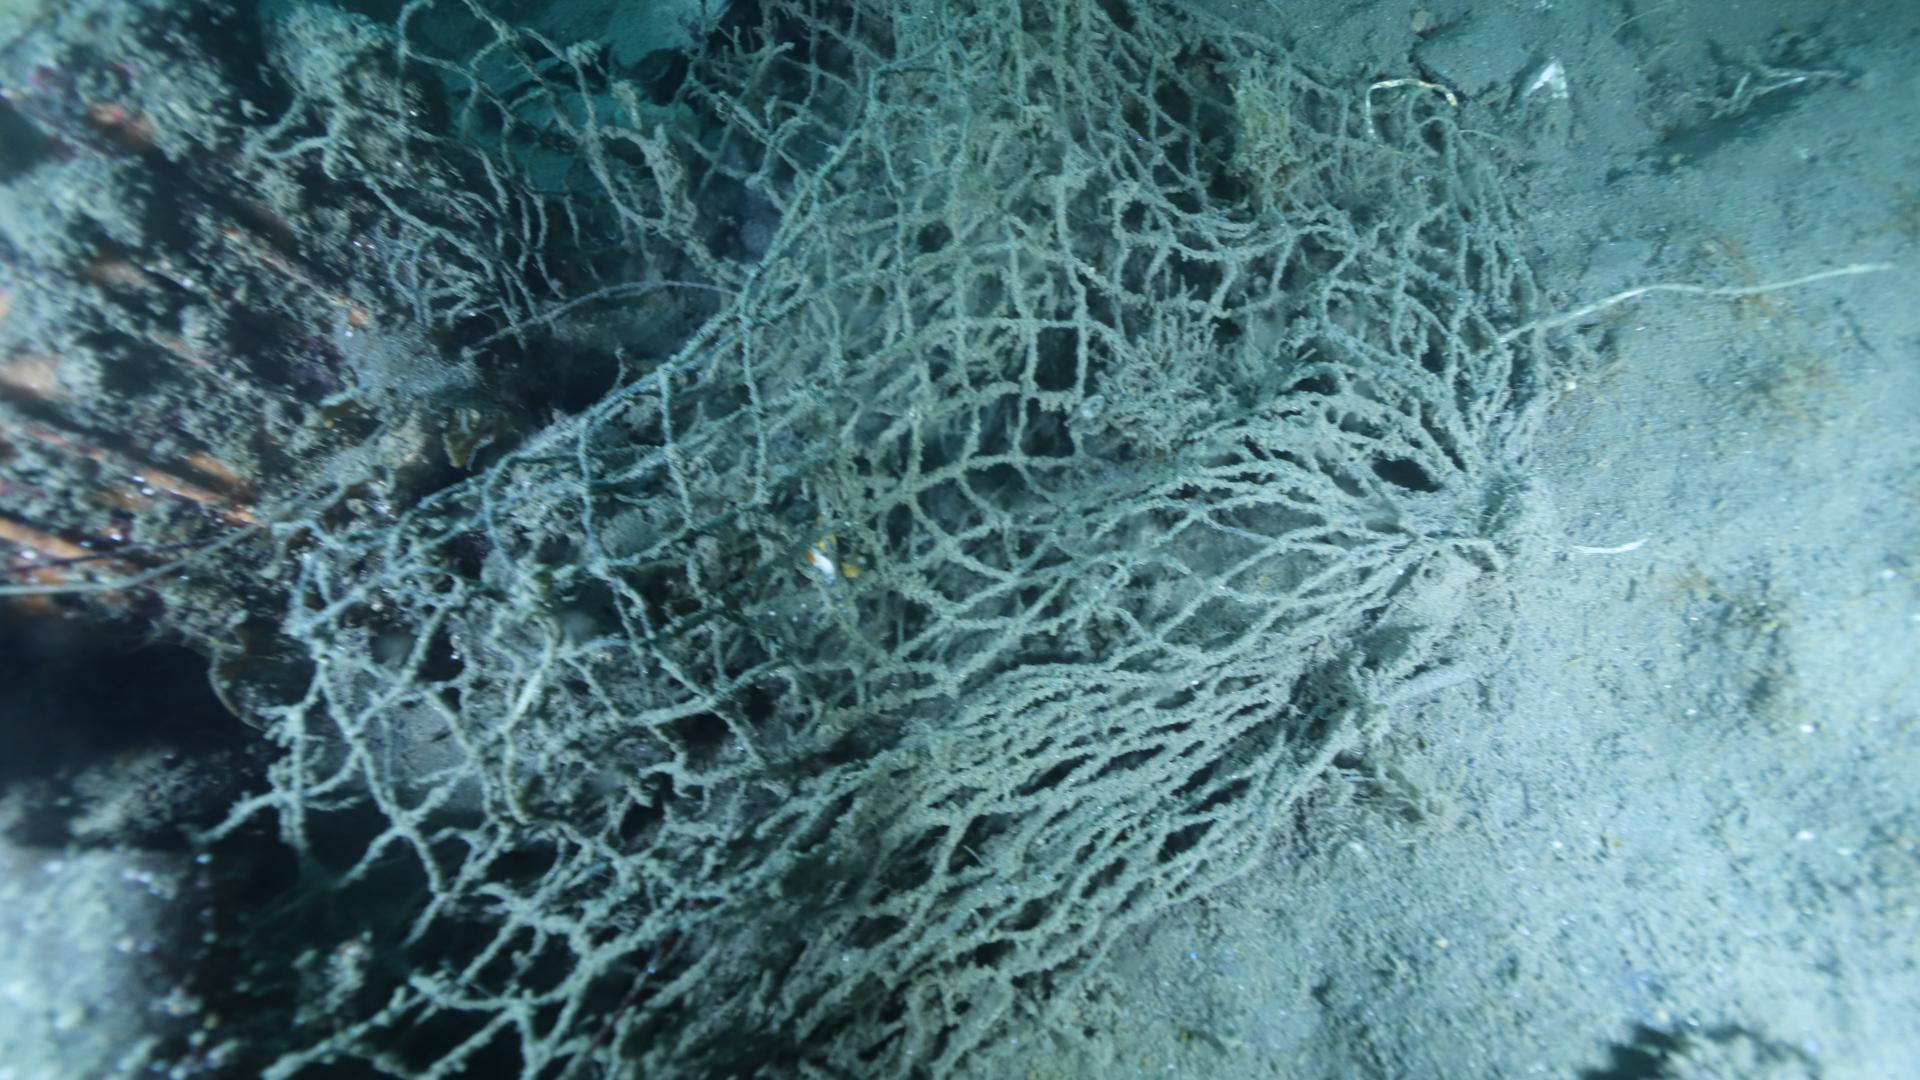fish net: (286, 5, 1480, 1080)
